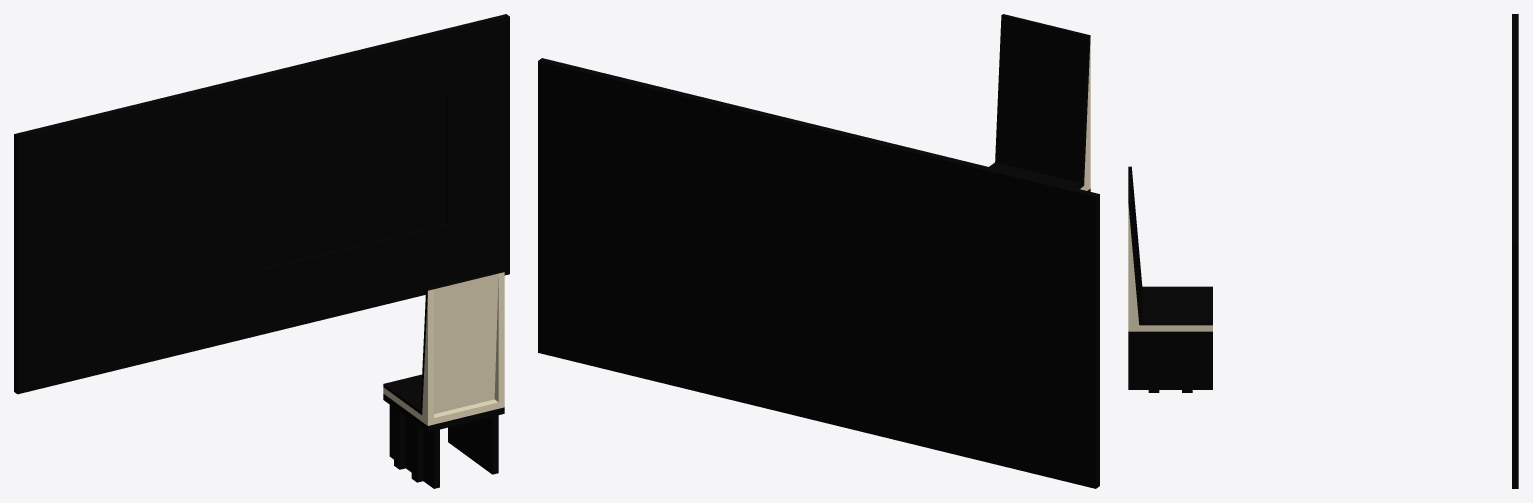
The model's file is step.glb.
3 views of the same model, side by side, from view 1: azimuth 30°, elevation 25°; view 2: azimuth 150°, elevation 25°; view 3: azimuth 270°, elevation 25° (orthographic). The views are drawn at different scales.
Parts seen in each view (by area): view 1: object_22, object_2, object_4, object_3; view 2: object_22, object_3, object_2; view 3: object_4, object_3, object_22, object_2.
Part boxes in pixels (left/top/right/bottom): object_22: left=14, top=14, right=509, bottom=394; object_2: left=383, top=272, right=504, bottom=425; object_4: left=383, top=394, right=504, bottom=488; object_3: left=383, top=270, right=504, bottom=414; object_22: left=538, top=58, right=1099, bottom=488; object_3: left=989, top=14, right=1090, bottom=188; object_2: left=1080, top=37, right=1090, bottom=190; object_4: left=1128, top=331, right=1212, bottom=392; object_3: left=1128, top=166, right=1212, bottom=325; object_22: left=1512, top=14, right=1518, bottom=488; object_2: left=1128, top=204, right=1212, bottom=331.
Size of what is drawn, in the model's own units: 8 by 4 by 5.76.
